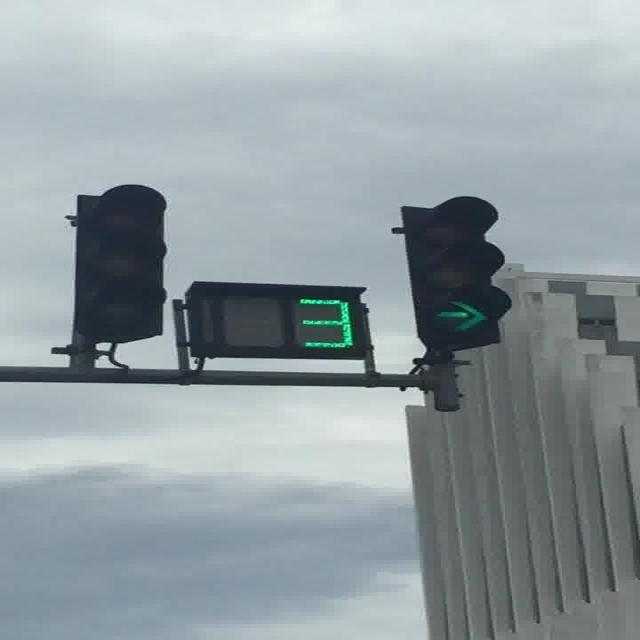traffic light: (401, 196, 512, 353), (73, 184, 167, 346), (185, 281, 369, 360)
